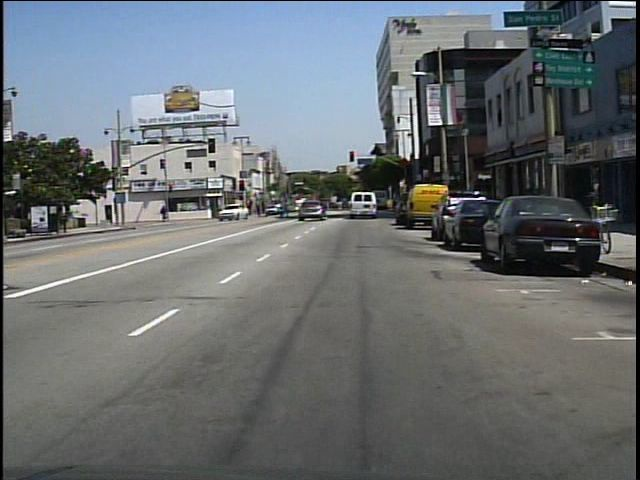person: (281, 194, 297, 223), (162, 204, 170, 223)
